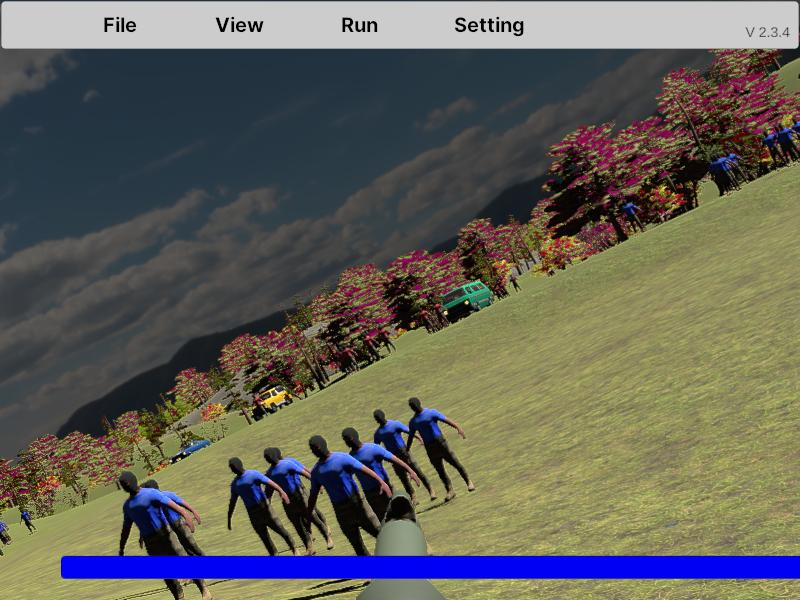Human: (304, 431, 393, 585), (118, 472, 216, 599), (406, 397, 476, 502), (261, 446, 328, 555), (365, 412, 436, 504), (227, 456, 288, 562)
car: (442, 280, 492, 323), (253, 386, 293, 418)
